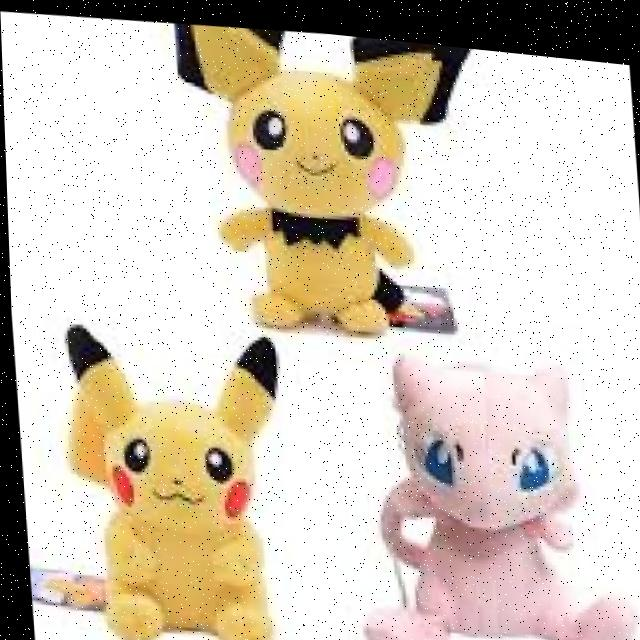pichu: (152, 12, 492, 350)
